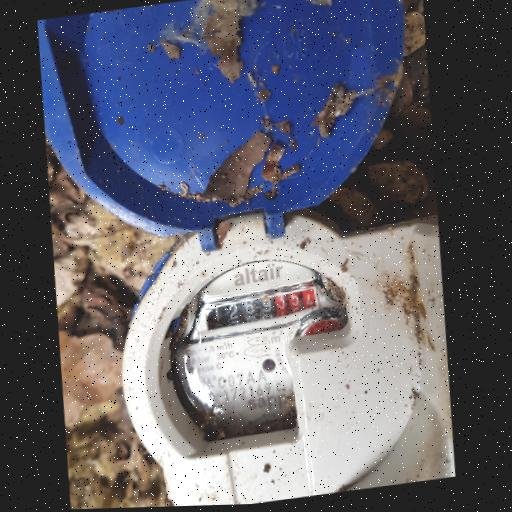1: (204, 305, 228, 331)
2: (223, 301, 246, 327)
3: (272, 292, 292, 318)
4: (300, 287, 317, 309)
5: (287, 290, 304, 314)
6: (240, 298, 262, 323)
9: (255, 294, 278, 321)
border_water_meter_number: (199, 285, 322, 338)
